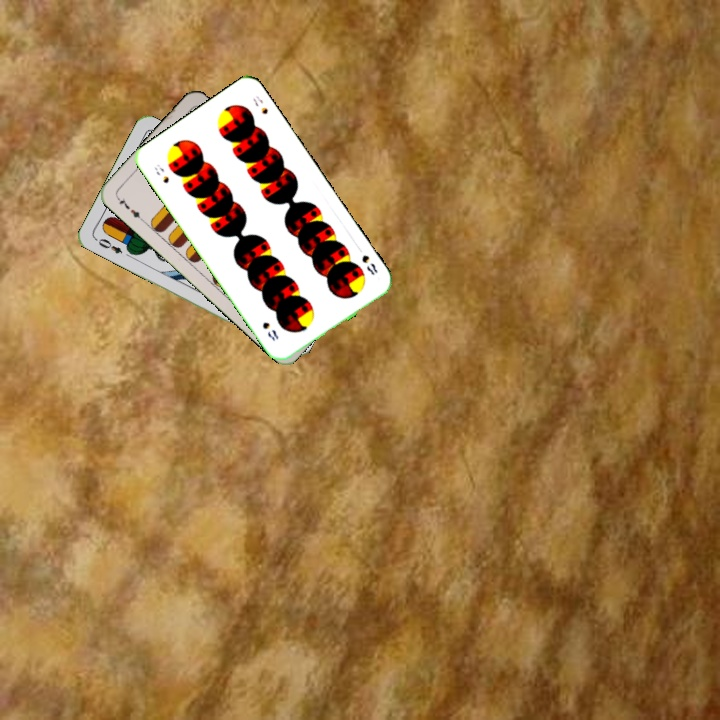E7: (113, 193, 146, 224)
EO: (91, 234, 125, 256)
S8: (357, 251, 380, 278), (150, 160, 172, 186)
